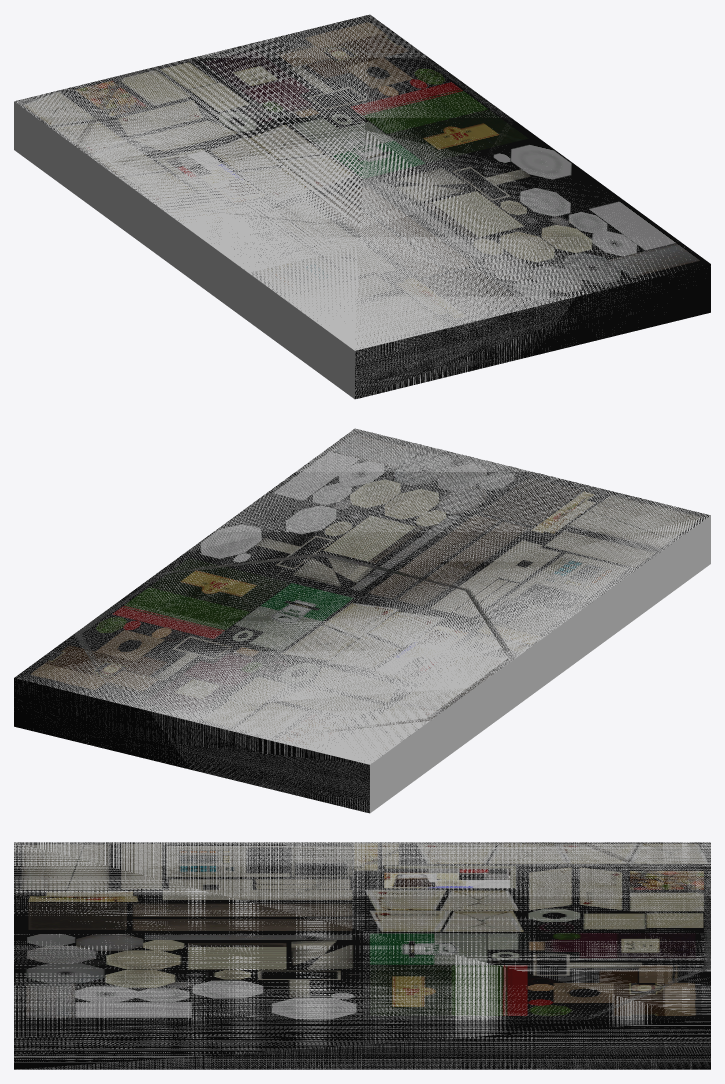
The model's file is pan.DAE.
The picture shows the model from 3 angles, top to bottom: view 1: azimuth 30°, elevation 25°; view 2: azimuth 150°, elevation 25°; view 3: azimuth 270°, elevation 25°; orthographic projection. The views are drawn at different scales.
Parts seen in each view (by area): view 1: bounds, colbox-1, pan100; view 2: bounds, colbox-1, pan100; view 3: colbox-1, bounds, pan100.
Boxes of the visible parts, x1,y1,x2,y2 form: bounds: (14,15,690,399); colbox-1: (15,14,710,398); pan100: (75,40,514,224); bounds: (15,429,710,813); colbox-1: (14,428,710,813); pan100: (74,553,514,738); colbox-1: (14,842,710,1069); bounds: (14,842,710,1069); pan100: (291,842,710,1019).
Size of the model in its own units: 34.16 by 56.66 by 4.46.
